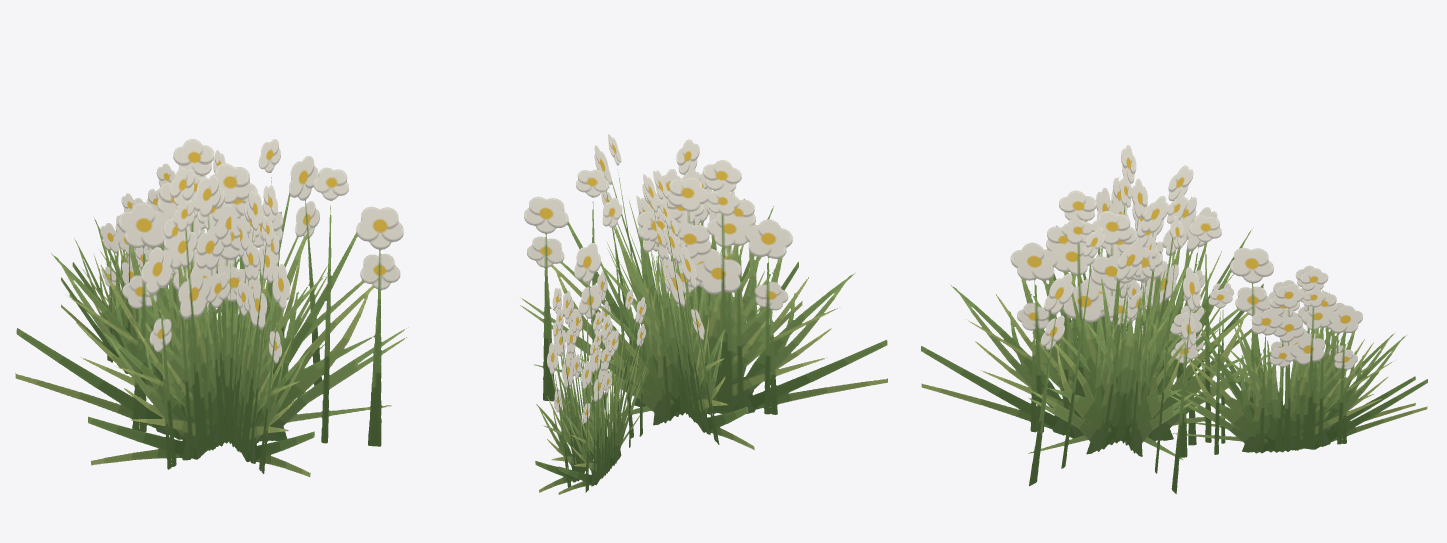
Rendered from wildflowers_white.glb.
3 views of the same model, side by side, from view 1: azimuth 30°, elevation 25°; view 2: azimuth 150°, elevation 25°; view 3: azimuth 270°, elevation 25° (orthographic). The views are drawn at different scales.
Visible parts, largest first — view 1: wildflowers_white; view 2: wildflowers_white; view 3: wildflowers_white.
Boxes of the visible parts, x1,y1,x2,y2 form: wildflowers_white: (15, 139, 408, 477); wildflowers_white: (520, 134, 887, 494); wildflowers_white: (921, 145, 1427, 493).
Size of the model in its own units: 0.9639 by 0.896 by 1.21.
Materials: 1 (1 with a texture image).
